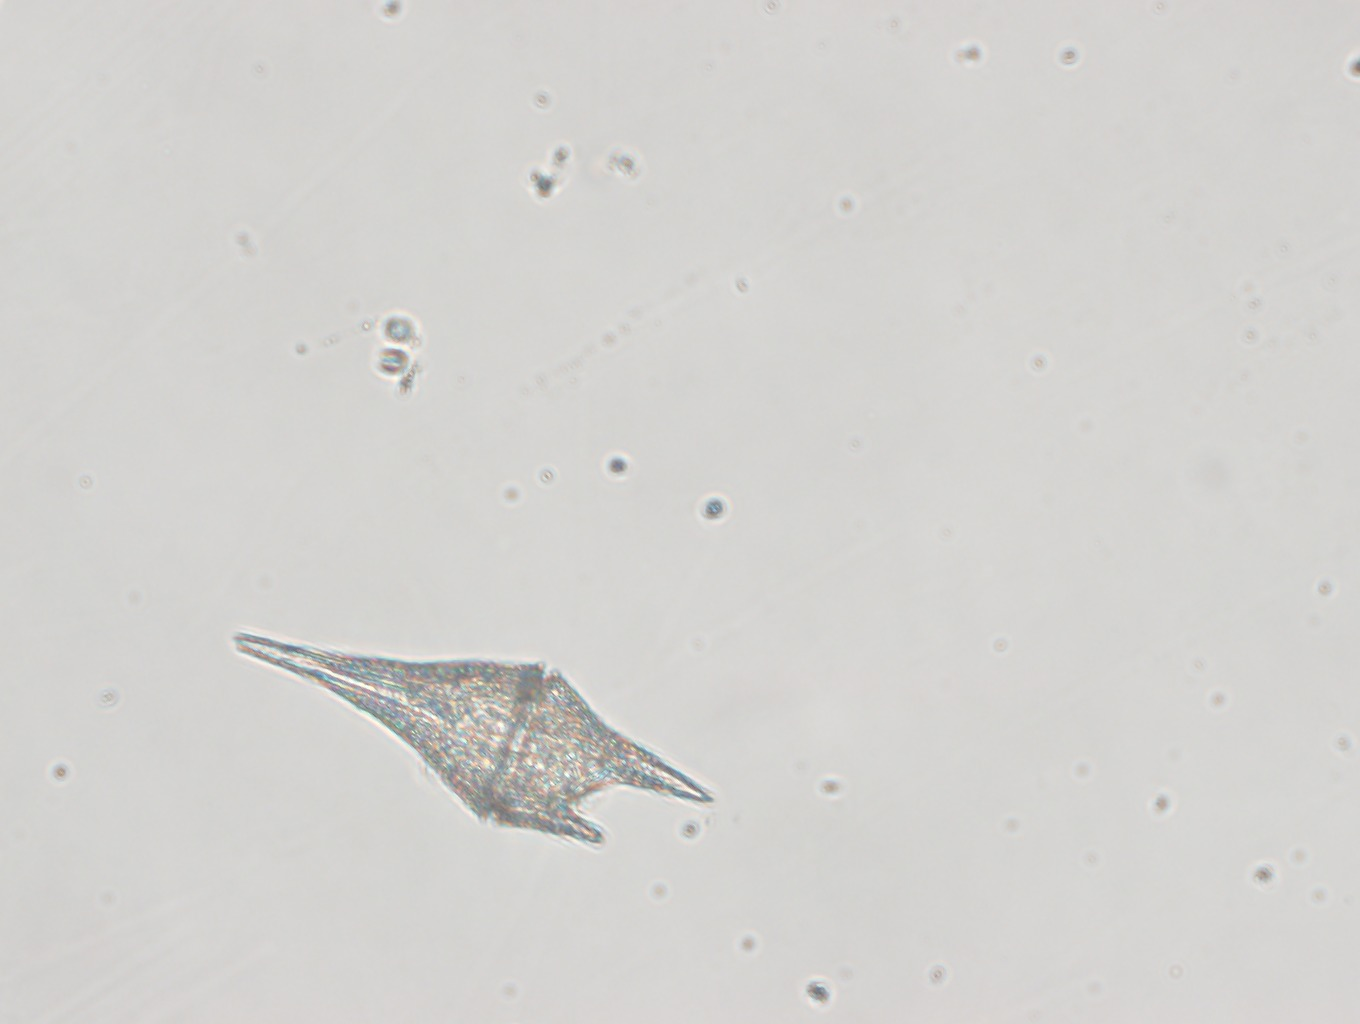ceratium furca: (232, 622, 713, 847)
